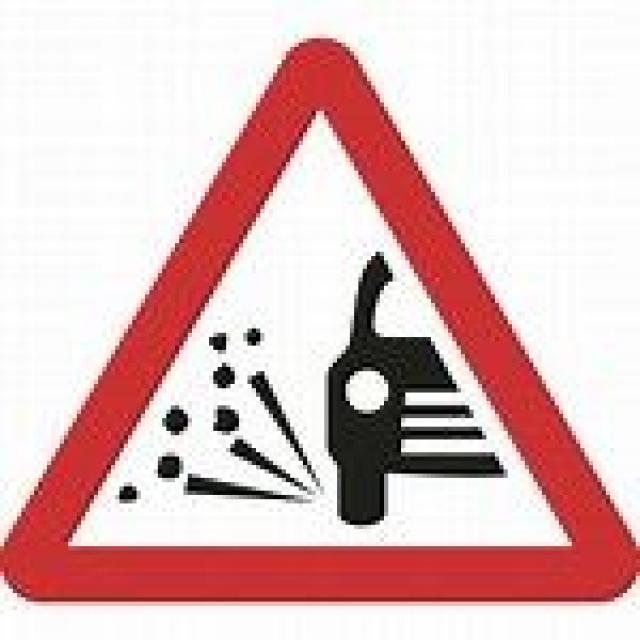loose gravel: (24, 39, 606, 601)
